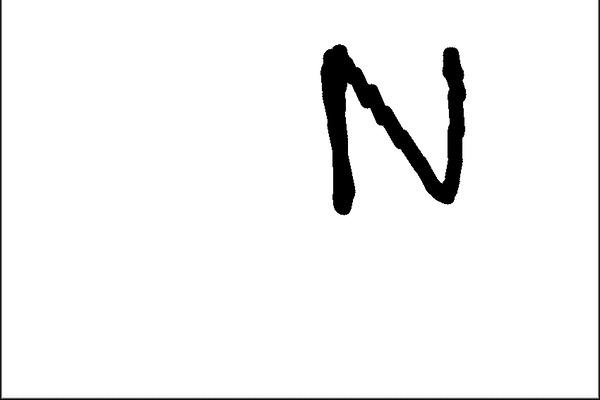N: (314, 38, 471, 220)
